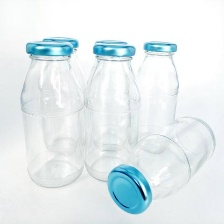bottle: (104, 113, 219, 218), (18, 35, 85, 189), (83, 42, 139, 185), (132, 37, 183, 155)
